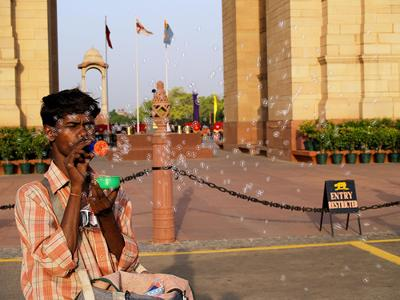person: (17, 88, 198, 300)
